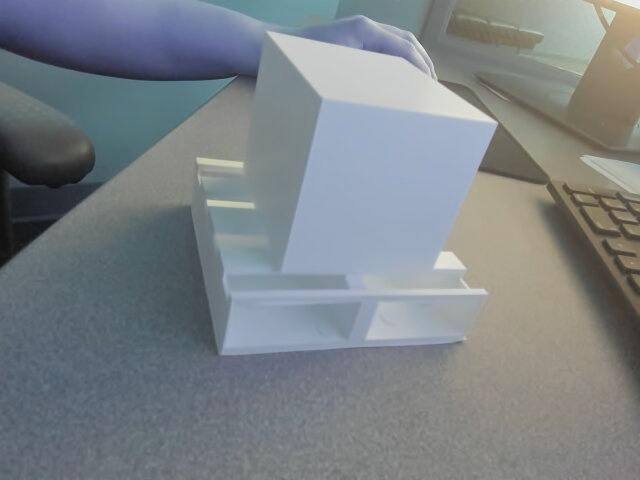white pallet: (177, 29, 512, 359)
